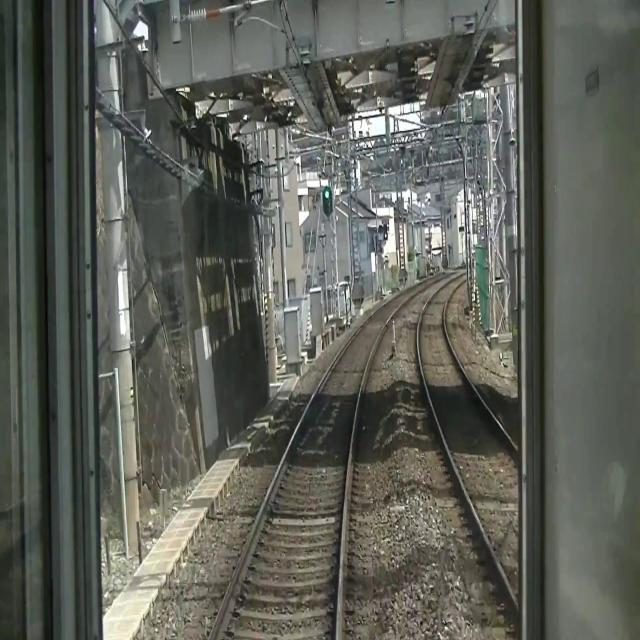rail-track: (419, 273, 516, 592)
